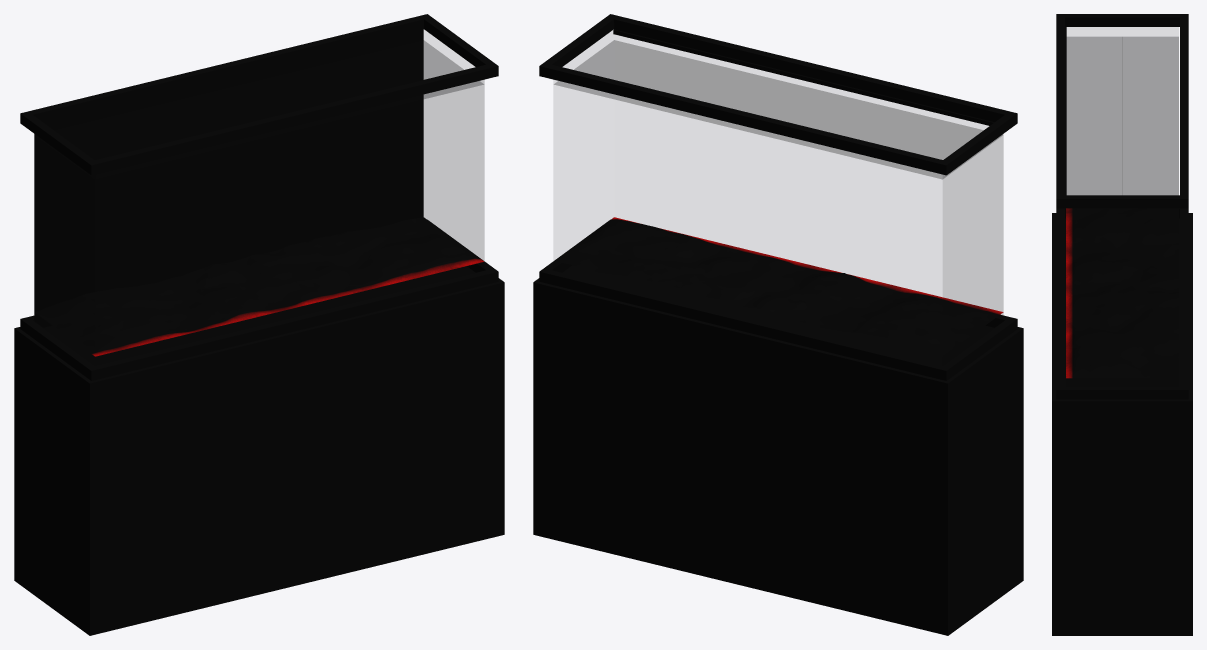
Rendered from tank.glb.
3 views of the same model, side by side, from view 1: azimuth 30°, elevation 25°; view 2: azimuth 150°, elevation 25°; view 3: azimuth 270°, elevation 25° (orthographic). The views are drawn at different scales.
Parts seen in each view (by area): view 1: Stand, GlassBack, Sand, Rim, WaterSurface; view 2: Stand, Rim, Sand, WaterSurface; view 3: Stand, Sand, WaterSurface, Rim.
Boxes of the visible parts, x1,y1,x2,y2 form: Stand: (14,266,504,635); GlassBack: (34,23,423,321); Sand: (34,217,483,356); Rim: (20,14,498,380); WaterSurface: (35,40,483,178); Stand: (533,265,1023,635); Rim: (539,14,1017,380); Sand: (554,217,1003,356); WaterSurface: (554,40,1002,179); Stand: (1052,213,1192,635); Sand: (1066,208,1178,378); WaterSurface: (1066,37,1178,212); Rim: (1056,14,1188,399).
Size of the model in its own units: 130 by 140 by 41.
Materials: 6 (1 with a texture image).
